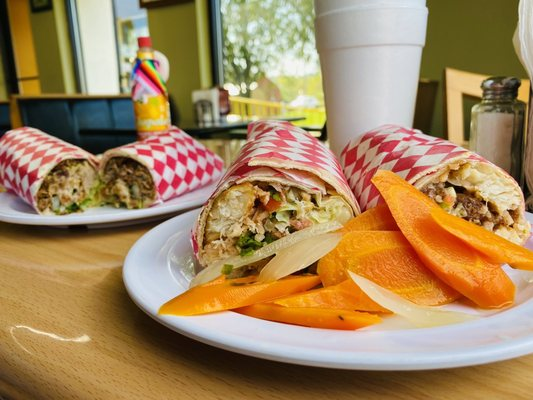pizza: (315, 0, 429, 155)
soup: (192, 120, 362, 269), (0, 125, 158, 216)
